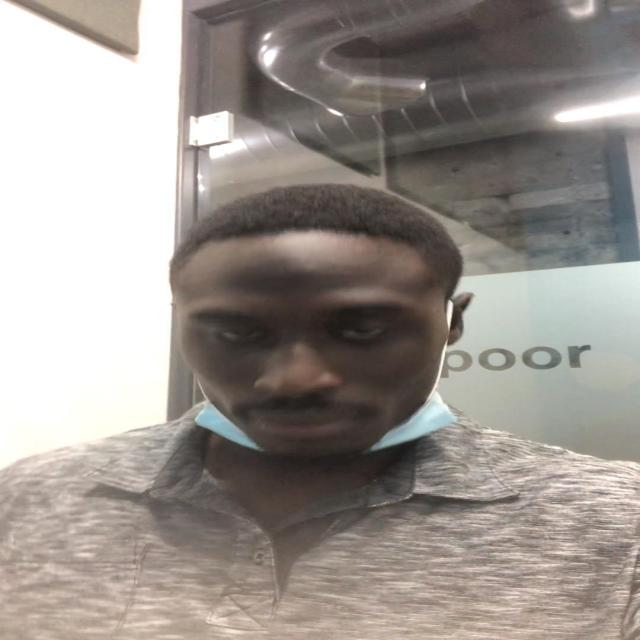face: (184, 243, 460, 457)
